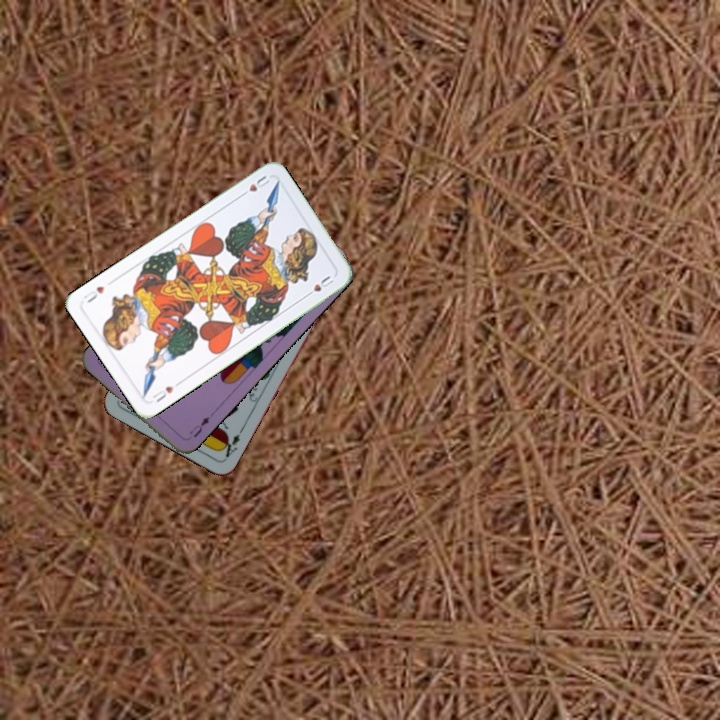EA: (217, 425, 246, 462)
EU: (186, 412, 212, 440)
HU: (236, 171, 272, 200), (148, 382, 176, 405)
